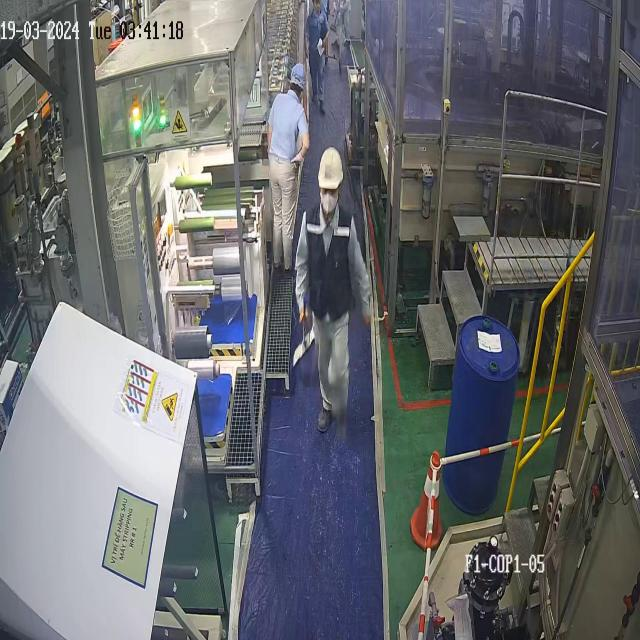Person: (294, 146, 371, 439), (266, 62, 310, 273), (303, 0, 329, 114)
